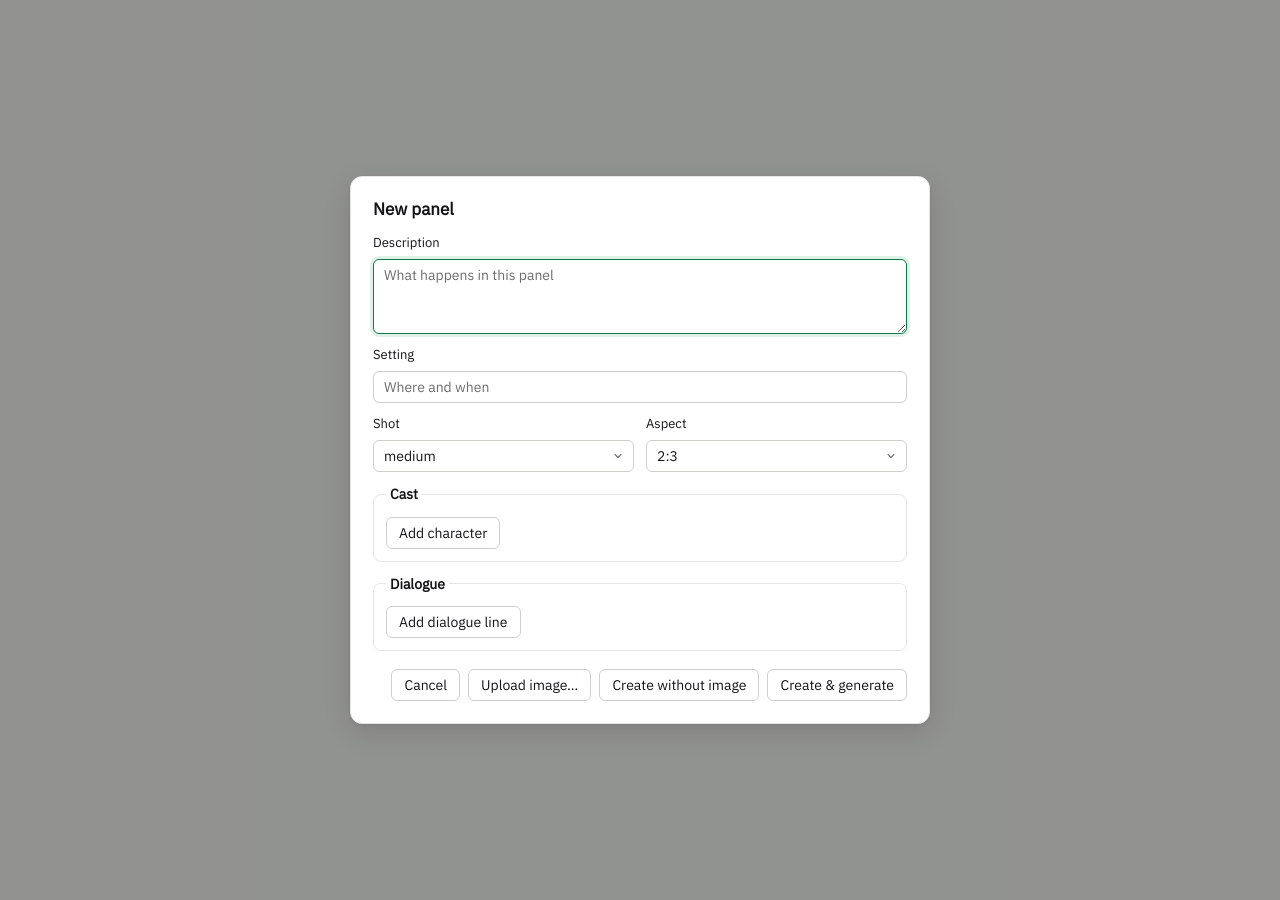
Test: PanelEditorDialog › says why a character without a ready look cannot be cast yet
Click the button "Add character" at (443, 533), box left=386, top=517, right=500, bottom=549
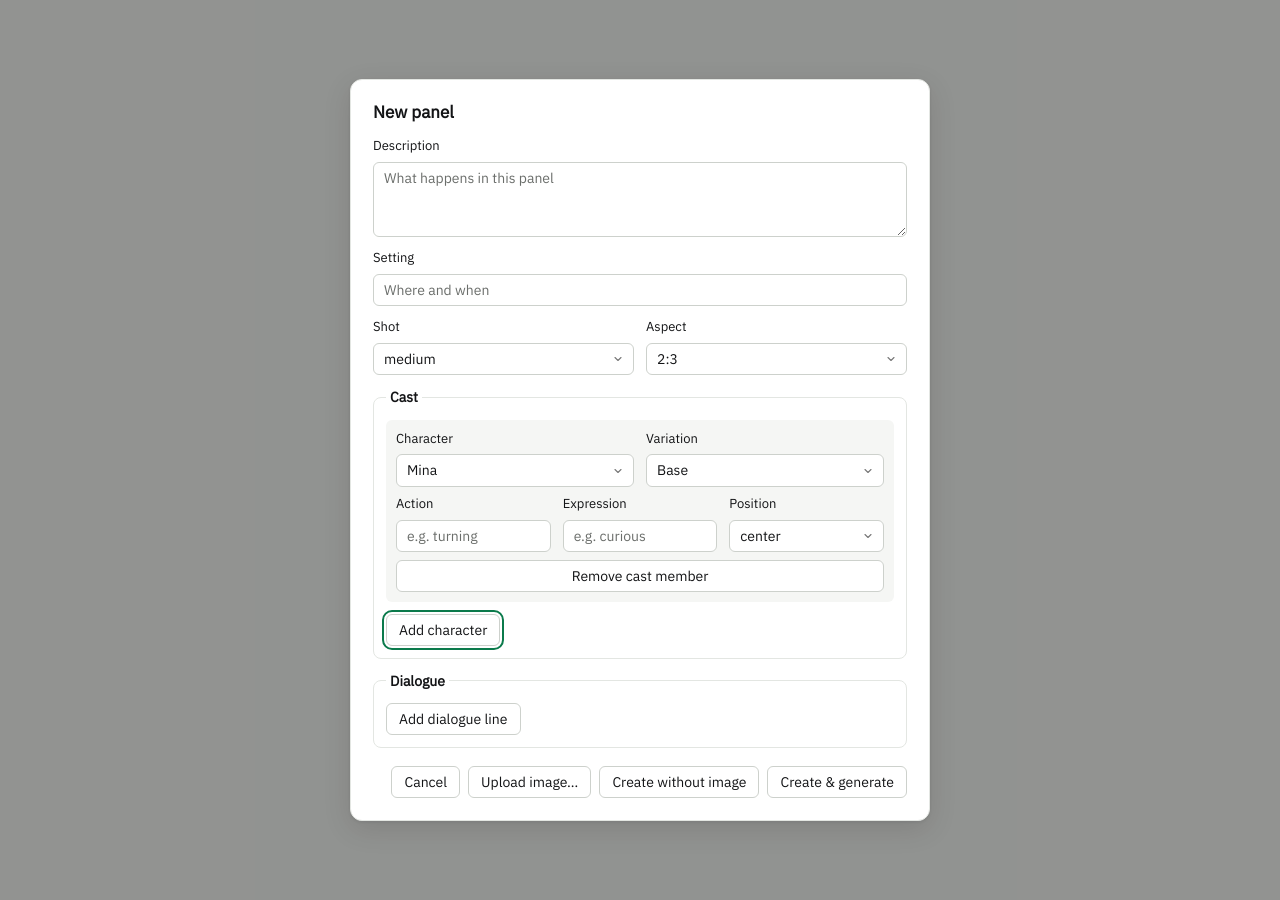
Select "Ghost" in the dropdown labelled "Character" at (515, 471), box left=396, top=454, right=634, bottom=487
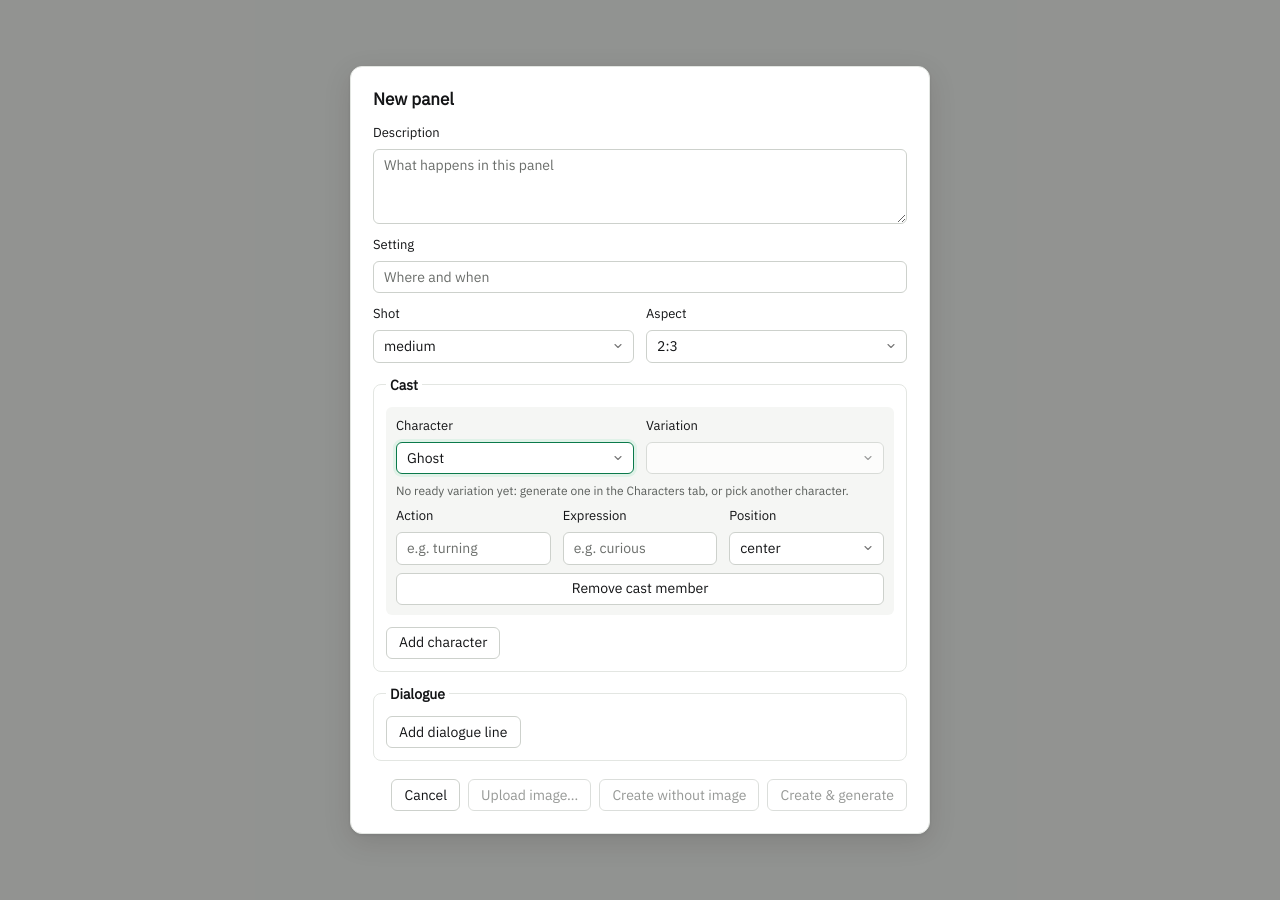
Check: the text "No ready variation" is shown, box left=396, top=483, right=849, bottom=498
Check: the dropdown labelled "Variation" is disabled, box left=646, top=442, right=884, bottom=474
Check: the button "Create & generate" is disabled, box left=768, top=779, right=907, bottom=811
